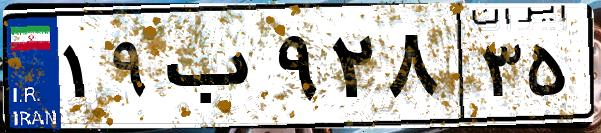1: (57, 26, 110, 100)
2: (330, 28, 385, 110)
3: (475, 38, 525, 113)
5: (525, 38, 570, 115)
8: (385, 28, 445, 110)
9: (270, 28, 330, 110), (110, 28, 158, 98)
ب: (158, 20, 270, 120)
